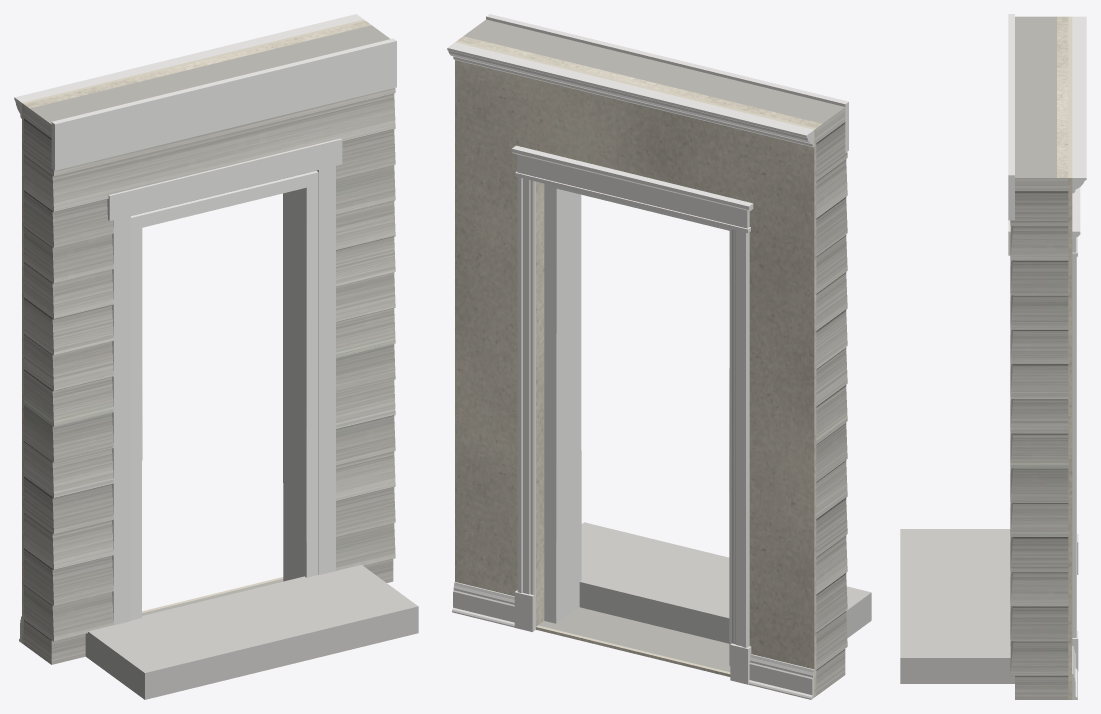
File: wing_wall_door_back.glb
3 renders of one model, left to right at view 1: azimuth 30°, elevation 25°; view 2: azimuth 150°, elevation 25°; view 3: azimuth 270°, elevation 25°, orthographic. The views are drawn at different scales.
Parts seen in each view (by area): view 1: wing_wall_door_back_siding, wing_wall_door_back_trim, wing_wall_door_back_concrete, wing_wall_door_back_frame, wing_wall_door_back_plaster, molduras; view 2: wing_wall_door_back_plaster, molduras, wing_wall_door_back_siding, wing_wall_door_back_frame, wing_wall_door_back_concrete, wing_wall_door_back_trim; view 3: wing_wall_door_back_siding, wing_wall_door_back_concrete, molduras, wing_wall_door_back_plaster, wing_wall_door_back_trim.
Boxes of the visible parts, box(x1,y1,x2,y2) form: wing_wall_door_back_siding: box(24, 25, 395, 664); wing_wall_door_back_trim: box(51, 38, 396, 625); wing_wall_door_back_concrete: box(85, 564, 418, 699); wing_wall_door_back_frame: box(131, 171, 318, 620); wing_wall_door_back_plaster: box(22, 19, 371, 644); molduras: box(14, 14, 363, 642); wing_wall_door_back_plaster: box(455, 36, 822, 697); molduras: box(447, 42, 814, 699); wing_wall_door_back_siding: box(463, 19, 847, 695); wing_wall_door_back_frame: box(544, 183, 732, 665); wing_wall_door_back_concrete: box(579, 522, 871, 643); wing_wall_door_back_trim: box(486, 14, 848, 152); wing_wall_door_back_siding: box(1010, 16, 1068, 699); wing_wall_door_back_concrete: box(900, 529, 1014, 683); molduras: box(1072, 16, 1086, 699); wing_wall_door_back_plaster: box(1057, 16, 1072, 699); wing_wall_door_back_trim: box(1008, 14, 1014, 645).
Size of the model in its own units: 2 by 3.04 by 0.975.
Materials: 5 (2 with a texture image).
